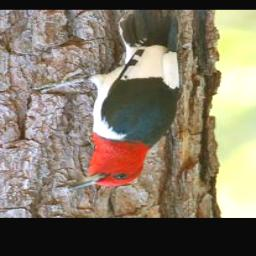Woodpecker: (31, 12, 183, 190)
